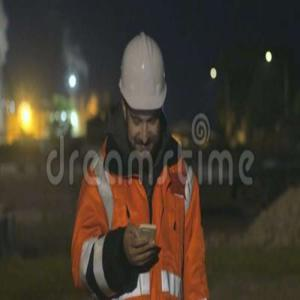white: (118, 32, 169, 160)
